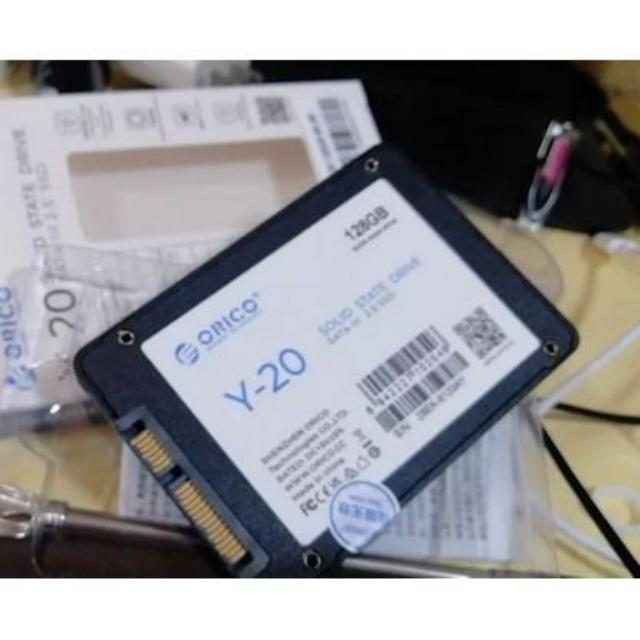DISK: (62, 138, 580, 580)
